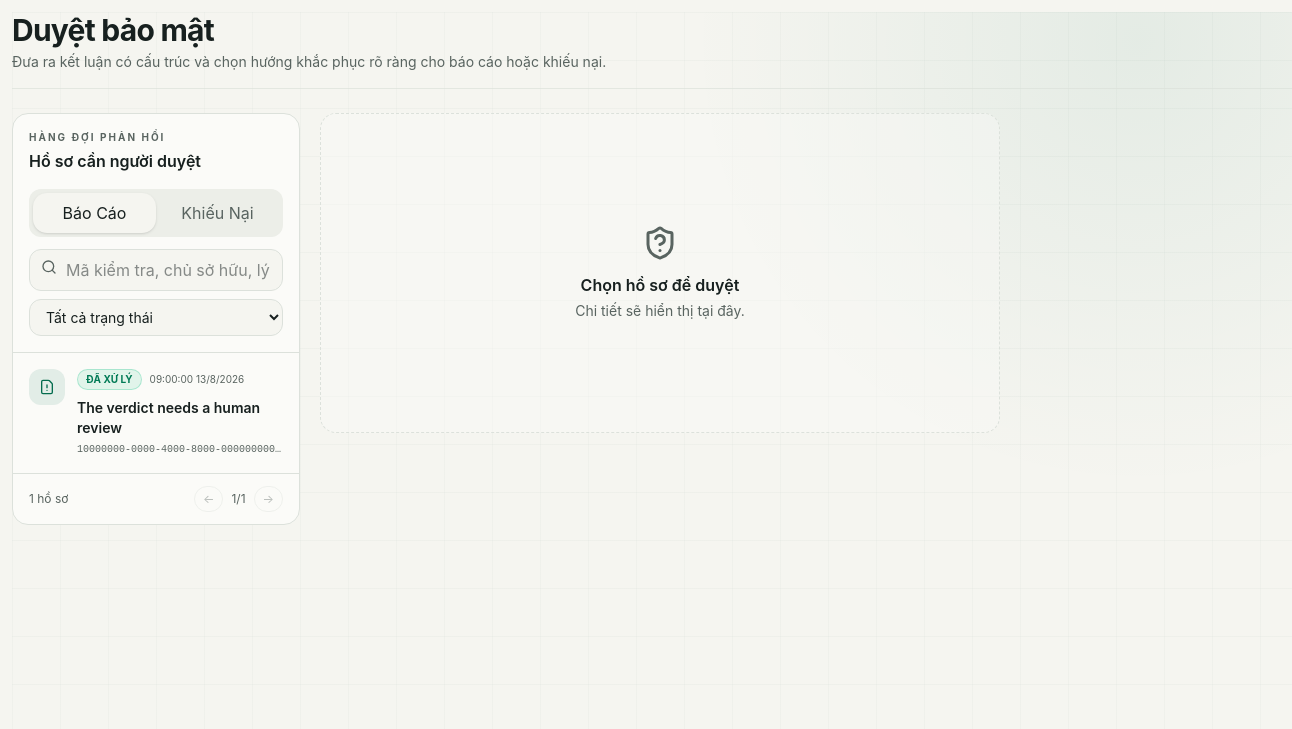
Test case: FE7 Security Review Room › renders remediation failure as failure, not as a successful terminal action
Click the button "The verdict needs a human review" at (156, 413), box [13,353,299,473]
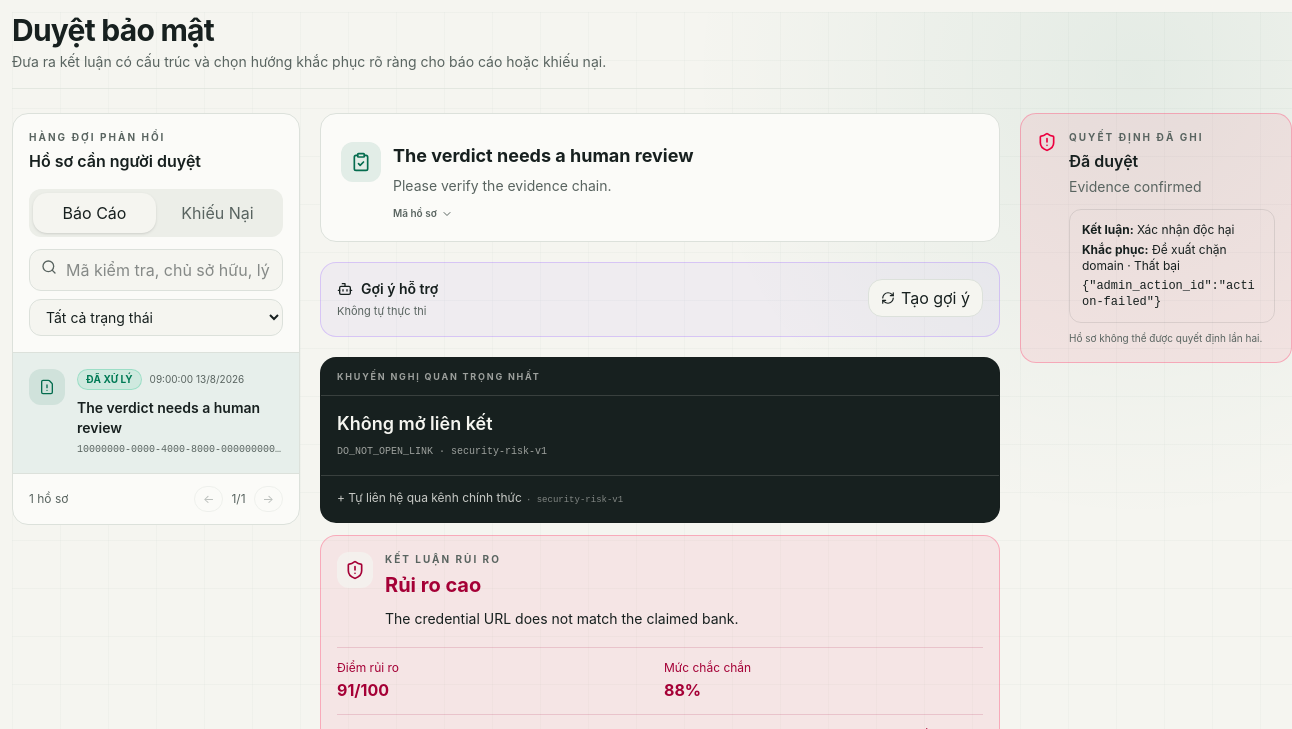
Check: the text "Khắc phục: Đề xuất chặn domain · Thất bại" is shown, box [1082,242,1227,273]
Check: the text "{\"admin_action_id\":\"action-failed\"}" is shown, box [1082,278,1262,310]
